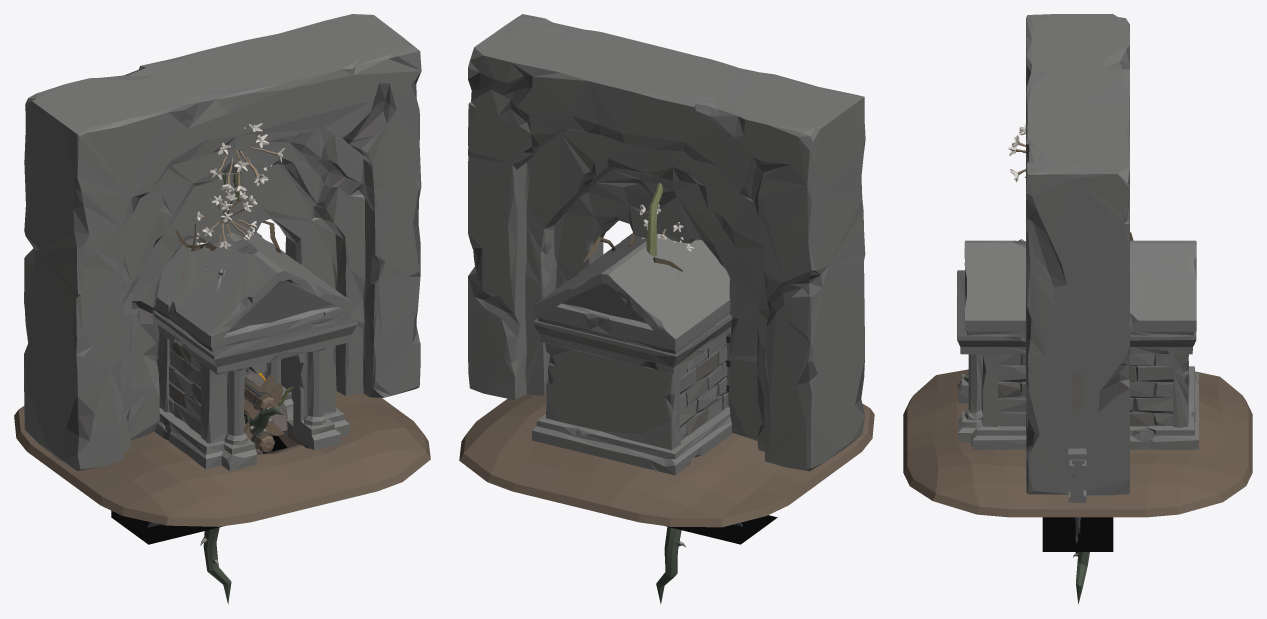
The model's file is Misc.fbx.
The picture shows the model from 3 angles, left to right: view 1: azimuth 30°, elevation 25°; view 2: azimuth 150°, elevation 25°; view 3: azimuth 270°, elevation 25°; orthographic projection. The views are drawn at different scales.
Parts seen in each view (by area): view 1: SM_Env_Entrance_Large_01, SM_Env_Entrance_Crypt_01, SM_Env_Entrance_Dirt_01, SM_Env_Entrance_Crypt_03, SM_Env_ReinforedPole_01, SM_Env_Background_Black_01, SM_Env_Tree_Dandelion_01, SM_Env_Tree_Dandelion_02, SM_Env_Vine_Spikes_03; view 2: SM_Env_Entrance_Large_01, SM_Env_Entrance_Crypt_01, SM_Env_Entrance_Dirt_01, SM_Env_Entrance_Crypt_03, SM_Env_Background_Black_01, SM_Env_Vine_Spikes_03, SM_Env_Tree_Dandelion_01; view 3: SM_Env_Entrance_Large_01, SM_Env_Entrance_Crypt_01, SM_Env_Entrance_Dirt_01, SM_Env_Background_Black_01, SM_Env_Railing_Angle_01.
Boxes of the visible parts, x1,y1,x2,y2 form: SM_Env_Entrance_Large_01: (24, 14, 421, 471); SM_Env_Entrance_Crypt_01: (153, 232, 357, 470); SM_Env_Entrance_Dirt_01: (14, 391, 430, 526); SM_Env_Entrance_Crypt_03: (153, 232, 298, 437); SM_Env_ReinforedPole_01: (244, 375, 284, 439); SM_Env_Background_Black_01: (111, 435, 287, 544); SM_Env_Tree_Dandelion_01: (209, 123, 284, 200); SM_Env_Tree_Dandelion_02: (196, 189, 257, 249); SM_Env_Vine_Spikes_03: (200, 527, 231, 604); SM_Env_Entrance_Large_01: (468, 14, 865, 471); SM_Env_Entrance_Crypt_01: (532, 233, 732, 475); SM_Env_Entrance_Dirt_01: (459, 394, 874, 527); SM_Env_Entrance_Crypt_03: (575, 233, 732, 443); SM_Env_Background_Black_01: (665, 515, 777, 544); SM_Env_Vine_Spikes_03: (656, 527, 686, 604); SM_Env_Tree_Dandelion_01: (646, 182, 662, 256); SM_Env_Entrance_Large_01: (1026, 14, 1129, 495); SM_Env_Entrance_Crypt_01: (957, 240, 1198, 449); SM_Env_Entrance_Dirt_01: (903, 369, 1252, 517); SM_Env_Background_Black_01: (1042, 517, 1113, 551); SM_Env_Railing_Angle_01: (1069, 374, 1086, 411).
Size of the model in its own units: 965 by 858 by 1378.
